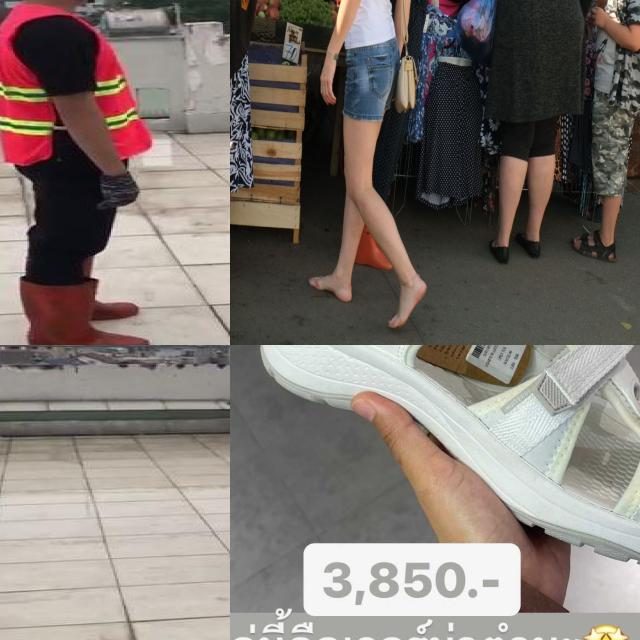Barefoots: (388, 276, 427, 328), (308, 275, 352, 302)
Sandals: (242, 345, 640, 577)
boots: (10, 273, 149, 345), (54, 254, 147, 320)
hand_glove: (92, 172, 148, 209)
person: (0, 0, 170, 345)
vest: (0, 0, 155, 167)
